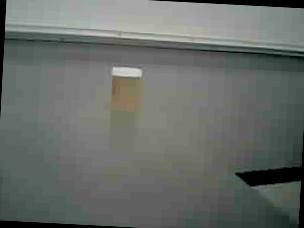Bottle B: (102, 61, 150, 118)
